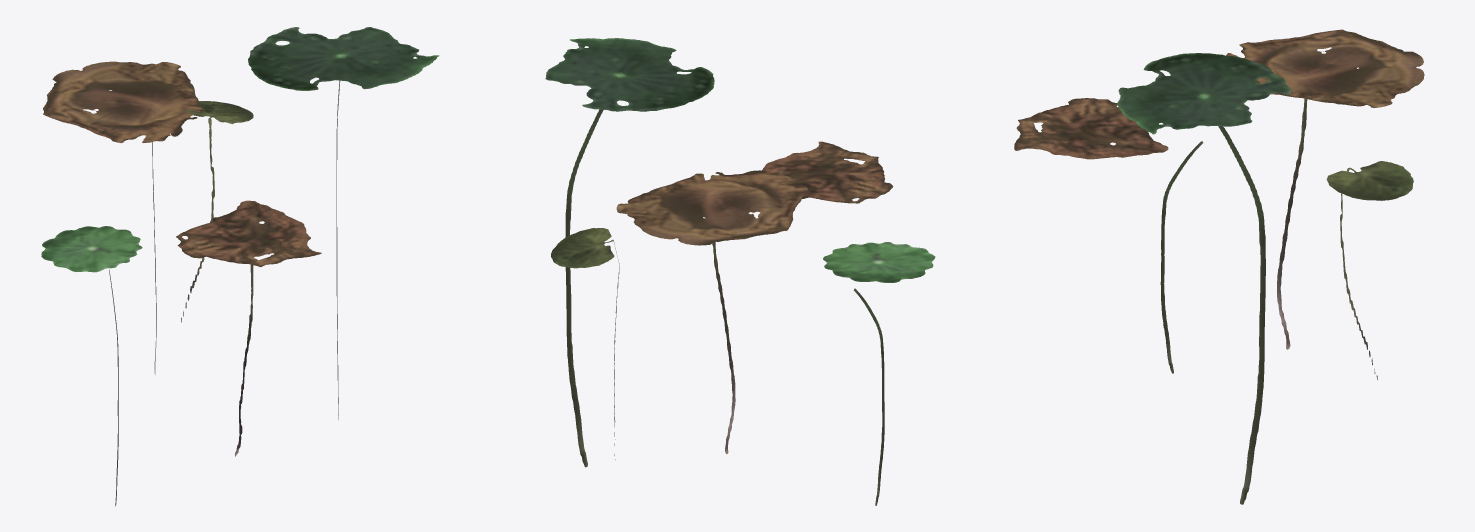
The model's file is arden_forest_water_plants_03_foliage.fbx.
3 renders of one model, left to right at view 1: azimuth 30°, elevation 25°; view 2: azimuth 150°, elevation 25°; view 3: azimuth 270°, elevation 25°, orthographic. The views are drawn at different scales.
Visible parts, largest first — view 1: arden_forest_water_plants_03_foliage; view 2: arden_forest_water_plants_03_foliage; view 3: arden_forest_water_plants_03_foliage.
Part boxes in pixels (x1,y1,x2,y2): arden_forest_water_plants_03_foliage: [41, 27, 439, 506]; arden_forest_water_plants_03_foliage: [545, 38, 935, 505]; arden_forest_water_plants_03_foliage: [1014, 29, 1424, 504].
Bounding box in the file's own units: 54.74 × 47.6 × 50.72.
